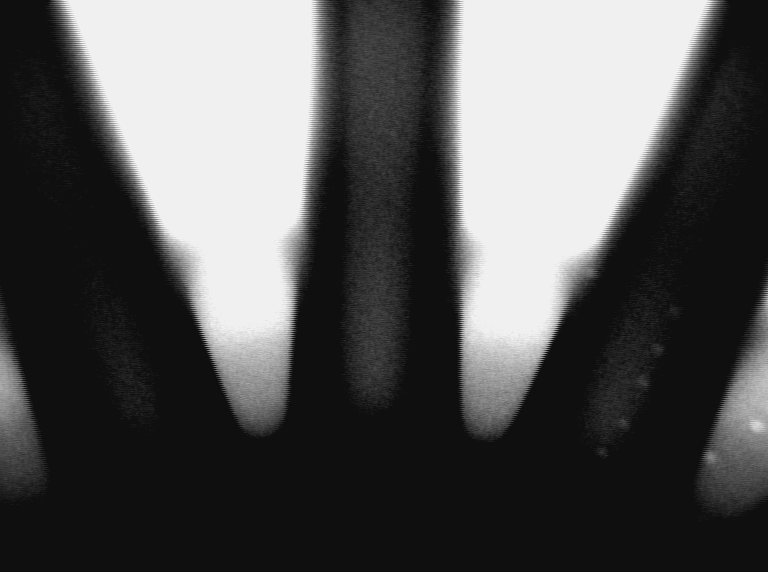defect: (582, 264, 604, 281)
